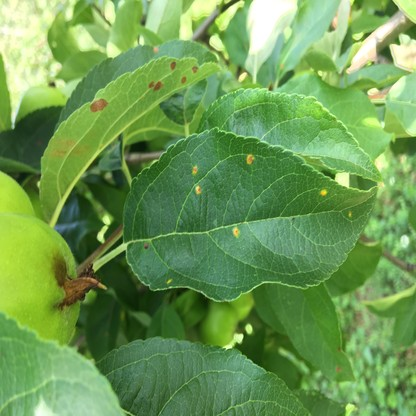rust: (150, 61, 198, 90), (91, 99, 109, 112), (192, 163, 198, 174), (195, 185, 201, 195), (232, 226, 238, 236), (247, 154, 253, 163), (320, 188, 327, 195), (152, 45, 158, 53), (144, 242, 150, 250), (166, 277, 172, 284), (348, 210, 352, 218)
